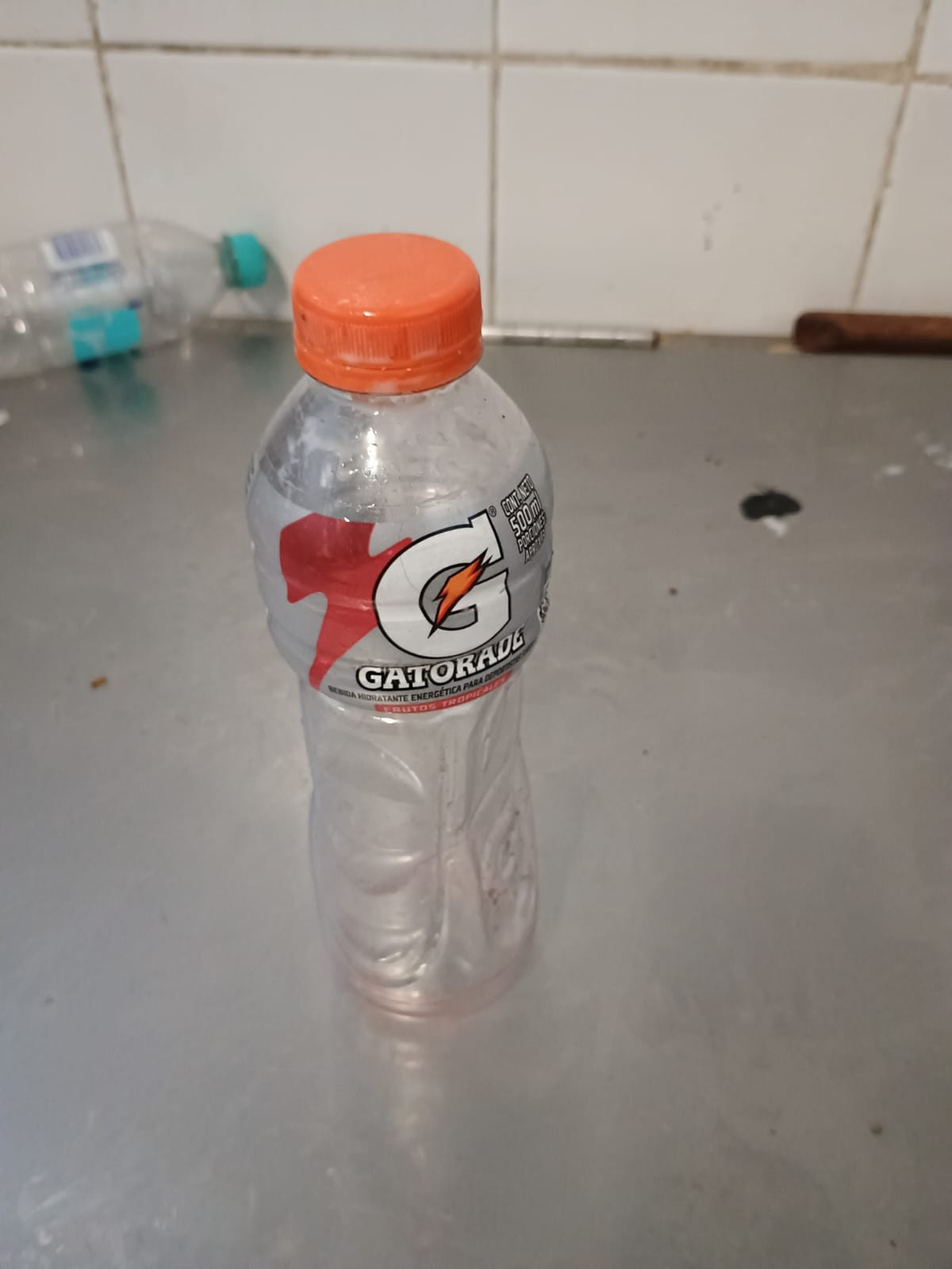Plastico: (246, 234, 551, 1019), (0, 219, 267, 384)
